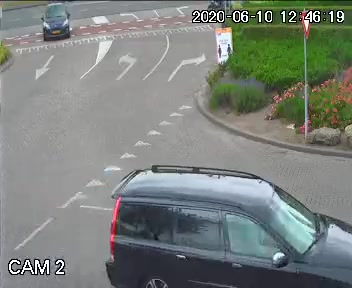car: (99, 154, 352, 288), (39, 4, 70, 43)
